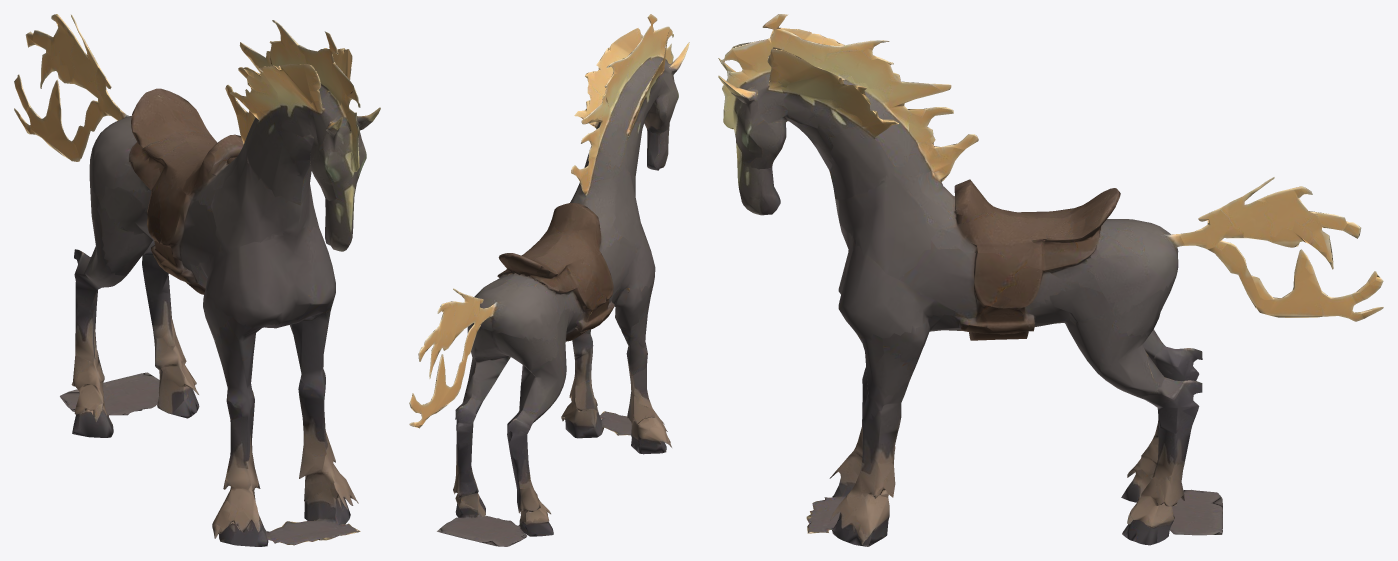
Rendered from bird.glb.
3 views of the same model, side by side, from view 1: azimuth 30°, elevation 25°; view 2: azimuth 150°, elevation 25°; view 3: azimuth 270°, elevation 25° (orthographic). The views are drawn at different scales.
Parts seen in each view (by area): view 1: model; view 2: model; view 3: model.
Boxes of the visible parts, box(x1,y1,x2,y2) form: model: box(14, 14, 380, 546); model: box(409, 14, 689, 546); model: box(718, 14, 1383, 546).
Size of the model in its own units: 0.2881 by 1 by 1.2.
1 material, 1 textured.
